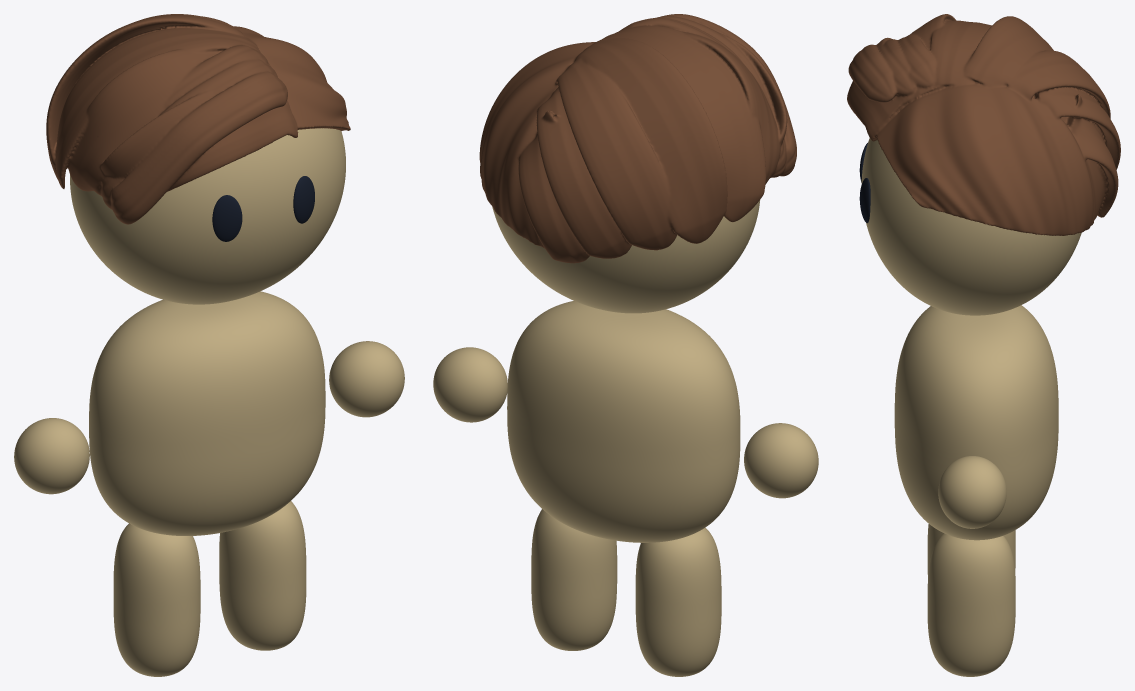
The model's file is Masculine-skin1.glb.
3 renders of one model, left to right at view 1: azimuth 30°, elevation 25°; view 2: azimuth 150°, elevation 25°; view 3: azimuth 270°, elevation 25°, orthographic. The views are drawn at different scales.
Visible parts, largest first — view 1: Skin / compact torso, Hair / Side part blended sculpt, Skin / soft oval head, Skin / leg -1, Skin / leg 1, Skin / hand 1, Skin / hand -1, Eye / dark oval -1, Eye / dark oval 1; view 2: Hair / Side part blended sculpt, Skin / compact torso, Skin / soft oval head, Skin / leg -1, Skin / leg 1, Skin / hand 1, Skin / hand -1; view 3: Hair / Side part blended sculpt, Skin / compact torso, Skin / soft oval head, Skin / leg 1, Skin / hand 1, Skin / leg -1, Eye / dark oval 1.
Boxes of the visible parts, x1,y1,x2,y2 form: Skin / compact torso: (89, 291, 325, 535); Hair / Side part blended sculpt: (46, 14, 350, 224); Skin / soft oval head: (70, 128, 345, 304); Skin / leg -1: (113, 523, 200, 676); Skin / leg 1: (219, 501, 306, 650); Skin / hand 1: (329, 341, 404, 417); Skin / hand -1: (14, 418, 89, 494); Eye / dark oval -1: (212, 195, 242, 241); Eye / dark oval 1: (293, 176, 314, 223); Hair / Side part blended sculpt: (479, 14, 796, 263); Skin / compact torso: (507, 301, 740, 542); Skin / soft oval head: (492, 200, 759, 313); Skin / leg -1: (635, 527, 721, 676); Skin / leg 1: (531, 509, 617, 650); Skin / hand 1: (433, 347, 507, 422); Skin / hand -1: (744, 423, 818, 498); Hair / Side part blended sculpt: (847, 14, 1120, 235); Skin / compact torso: (894, 305, 1058, 540); Skin / soft oval head: (861, 138, 1081, 315); Skin / leg 1: (927, 533, 1015, 676); Skin / hand 1: (938, 456, 1006, 528); Skin / leg -1: (927, 524, 1015, 576); Eye / dark oval 1: (859, 178, 870, 223).
Bounding box in the file's own units: 1.49 × 2.38 × 0.9751.
